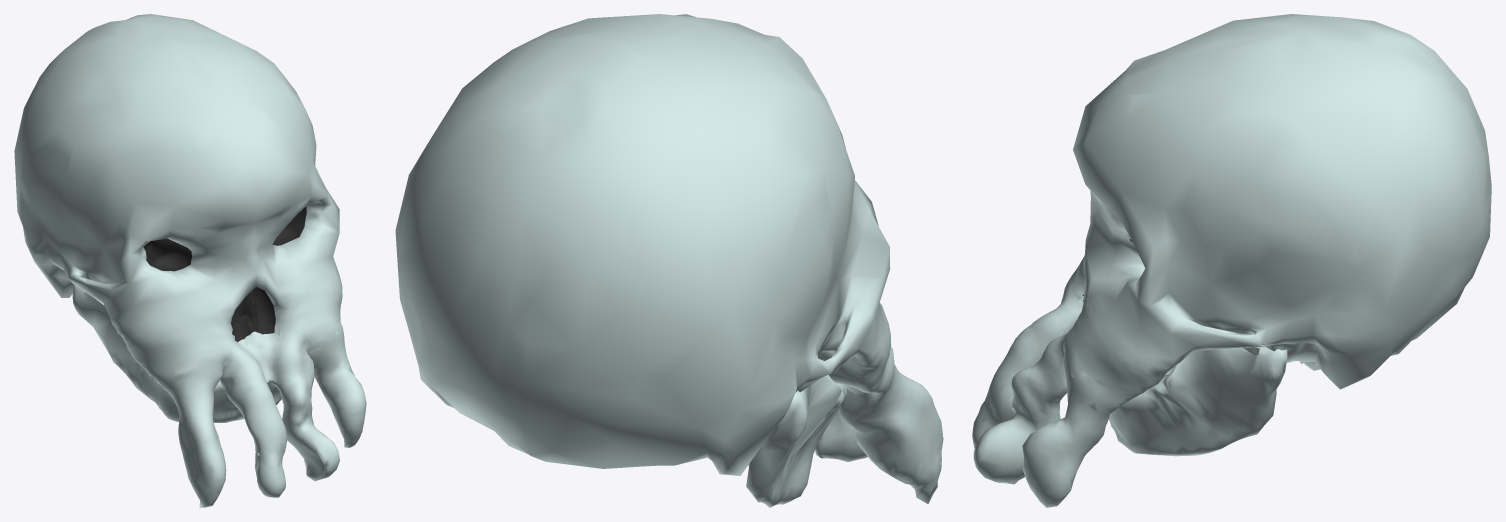
The model's file is oldOne.glb.
The picture shows the model from 3 angles, left to right: view 1: azimuth 30°, elevation 25°; view 2: azimuth 150°, elevation 25°; view 3: azimuth 270°, elevation 25°; orthographic projection. The views are drawn at different scales.
Parts seen in each view (by area): view 1: Based Ghoul Head - Teeth.002; view 2: Based Ghoul Head - Teeth.002; view 3: Based Ghoul Head - Teeth.002.
Part boxes in pixels (x1,y1,x2,y2): Based Ghoul Head - Teeth.002: (14, 14, 366, 507); Based Ghoul Head - Teeth.002: (395, 14, 943, 507); Based Ghoul Head - Teeth.002: (972, 14, 1491, 507).
Size of the model in its own units: 0.2657 by 0.3778 by 0.3988.
